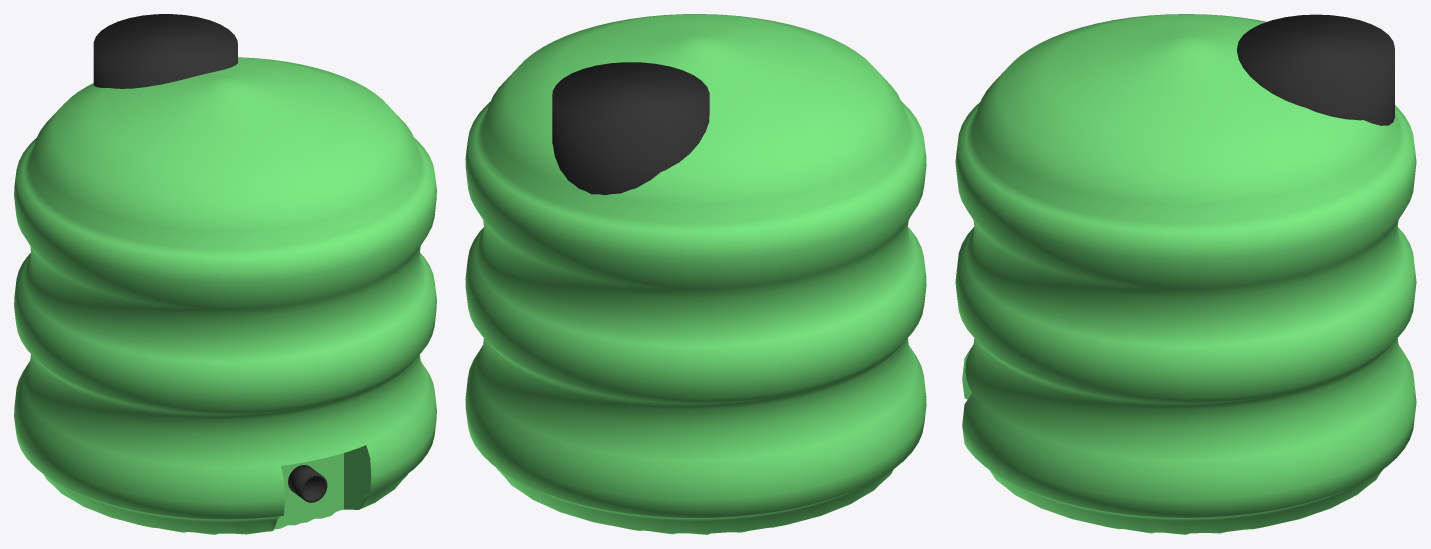
File: Rain Tank.fbx
3 views of the same model, side by side, from view 1: azimuth 30°, elevation 25°; view 2: azimuth 150°, elevation 25°; view 3: azimuth 270°, elevation 25° (orthographic). The views are drawn at different scales.
Parts seen in each view (by area): view 1: Cylinder, Cylinder.001, Cylinder.002; view 2: Cylinder, Cylinder.001; view 3: Cylinder, Cylinder.001.
Boxes of the visible parts, bbox=[...] form: Cylinder: bbox=[14, 57, 436, 534]; Cylinder.001: bbox=[93, 14, 237, 88]; Cylinder.002: bbox=[288, 465, 327, 502]; Cylinder: bbox=[465, 14, 926, 534]; Cylinder.001: bbox=[552, 62, 709, 194]; Cylinder: bbox=[955, 14, 1416, 534]; Cylinder.001: bbox=[1237, 14, 1394, 125].
Bounding box in the file's own units: 217 × 225 × 217.
